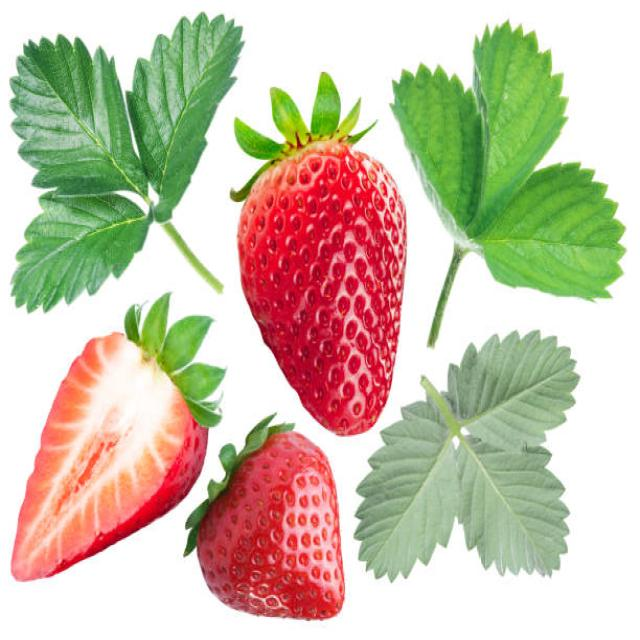Healthy Fruit: (236, 147, 408, 436), (196, 426, 346, 620)
